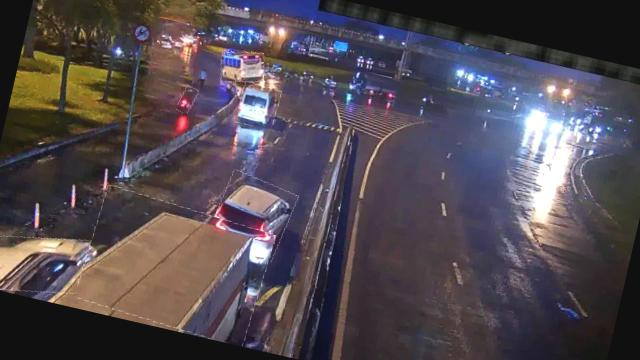Bike: (177, 85, 198, 115)
Bus: (235, 82, 281, 130), (217, 47, 268, 88)
Car: (206, 170, 298, 263), (0, 221, 95, 307)
Truck: (74, 187, 276, 346), (354, 72, 398, 102)
